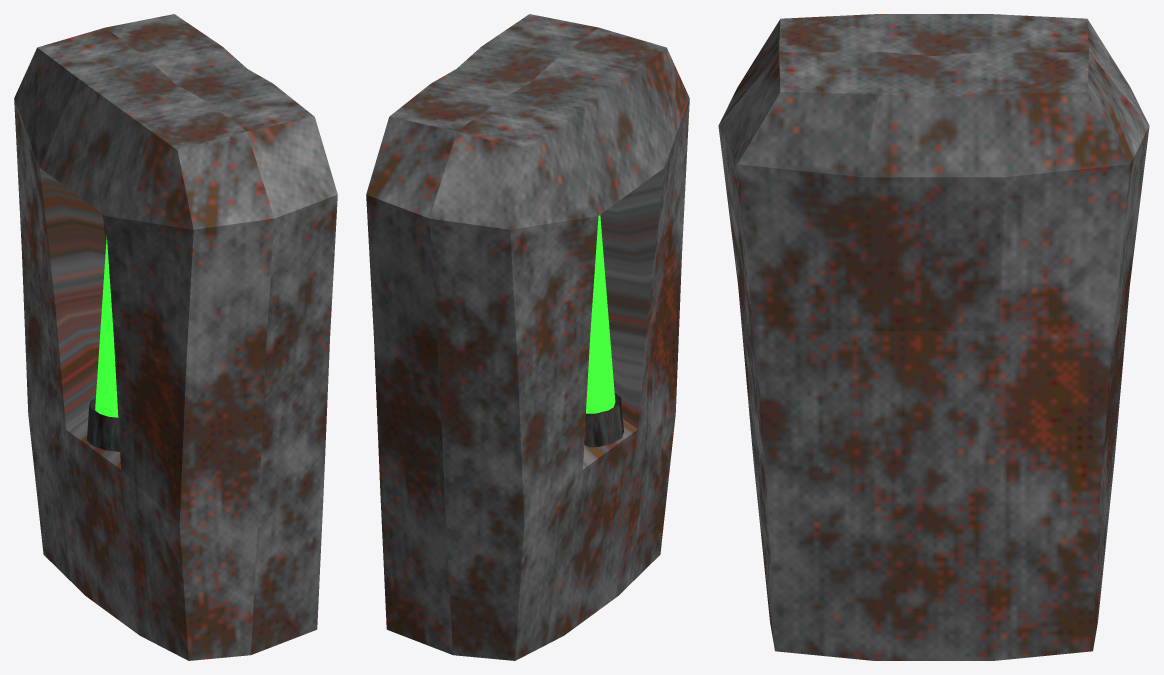
The model's file is Torso.fbx.
3 views of the same model, side by side, from view 1: azimuth 30°, elevation 25°; view 2: azimuth 150°, elevation 25°; view 3: azimuth 270°, elevation 25° (orthographic). The views are drawn at different scales.
Parts seen in each view (by area): view 1: Torso; view 2: Torso; view 3: Torso.
Boxes of the visible parts, left/top/right/bottom form: Torso: left=14, top=14, right=337, bottom=660; Torso: left=366, top=14, right=689, bottom=660; Torso: left=718, top=14, right=1149, bottom=660.
Bounding box in the file's own units: 1.29 × 2.2 × 3.35.
